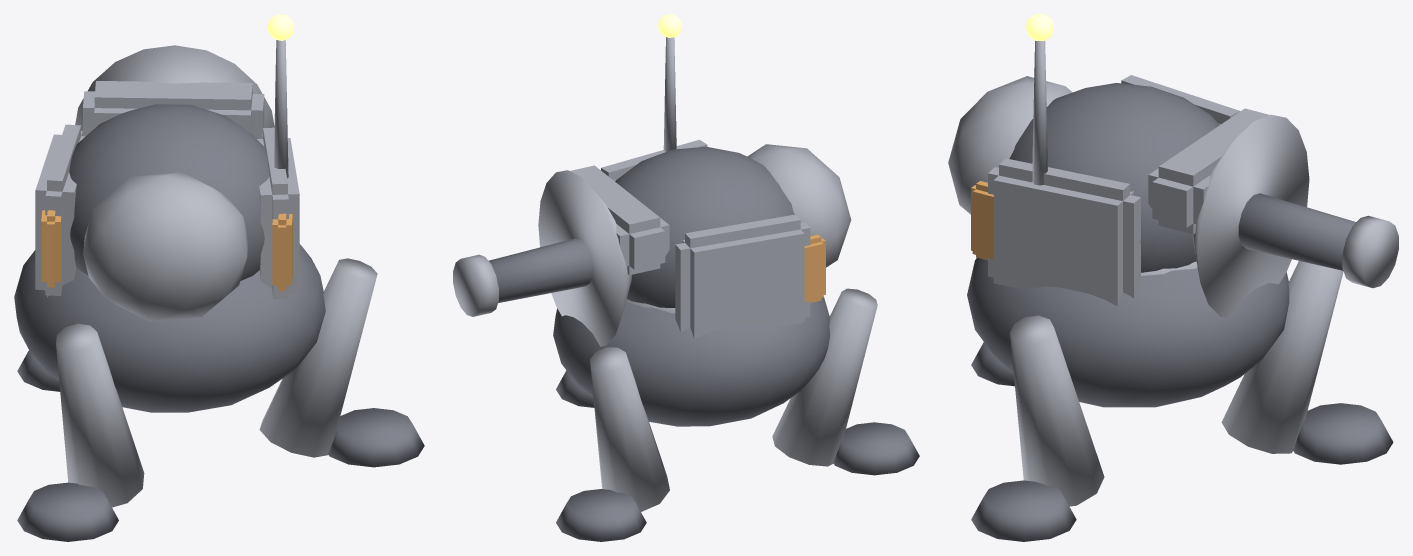
File: turret.glb
3 views of the same model, side by side, from view 1: azimuth 30°, elevation 25°; view 2: azimuth 150°, elevation 25°; view 3: azimuth 270°, elevation 25° (orthographic). The views are drawn at different scales.
Visible parts, largest first — view 1: mount, head, antenna; view 2: head, mount, antenna; view 3: head, mount, antenna.
Boxes of the visible parts, x1,y1,x2,y2 form: mount: (14,244,424,541); head: (35,45,299,321); antenna: (267,14,294,178); head: (453,139,851,346); mount: (553,288,919,541); antenna: (658,14,681,151); head: (948,75,1398,318); mount: (967,257,1393,541); antenna: (1026,14,1054,185).
Size of the model in its own units: 1.16 by 1.26 by 1.11.
